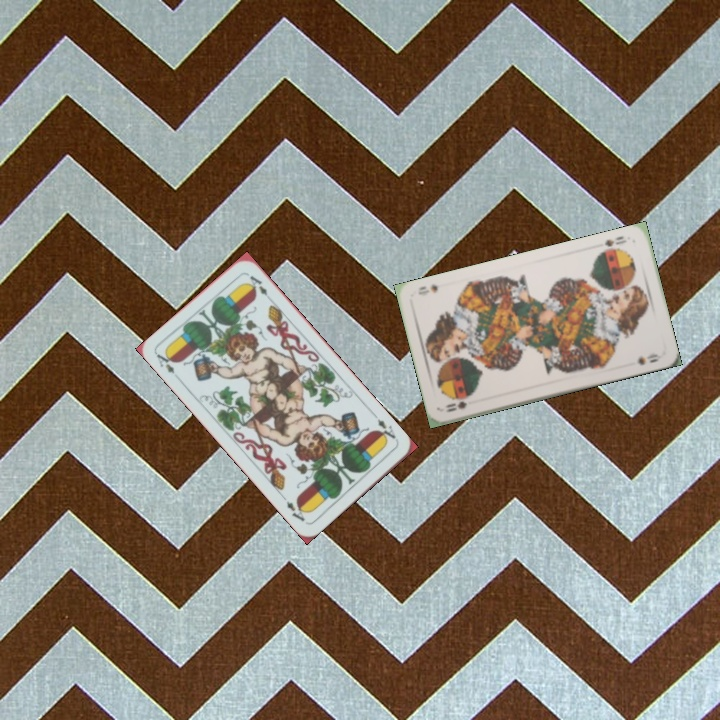EA: (369, 410, 399, 445), (152, 347, 177, 377)
SO: (440, 397, 469, 415), (601, 232, 629, 249)
